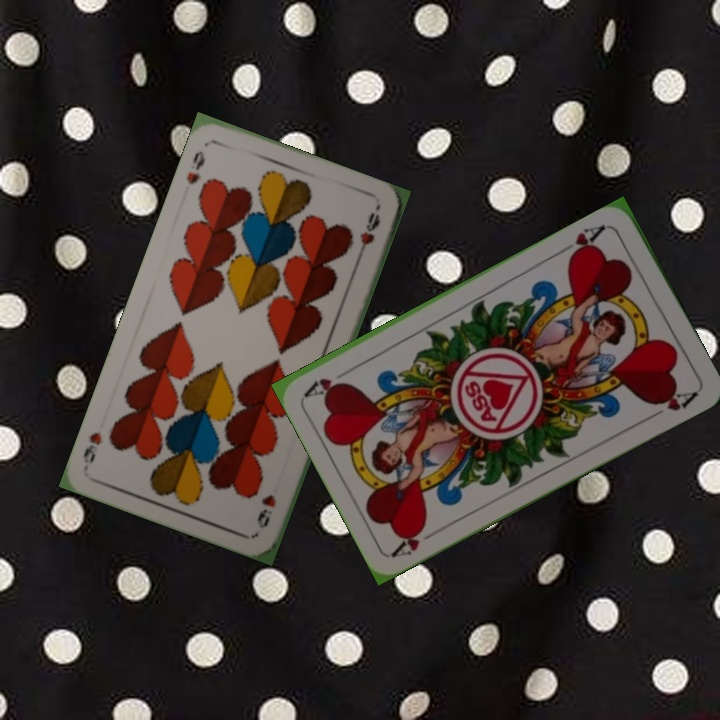H9: (253, 490, 279, 532), (182, 146, 208, 187)
HA: (556, 220, 611, 263), (389, 521, 444, 560)
